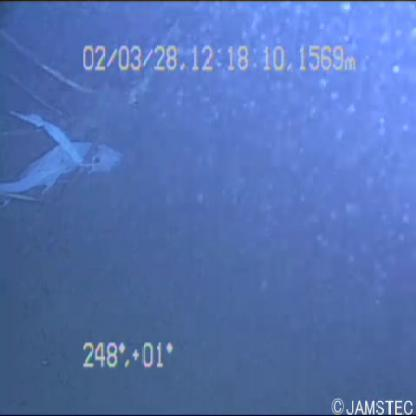Rác: (0, 86, 128, 231)
